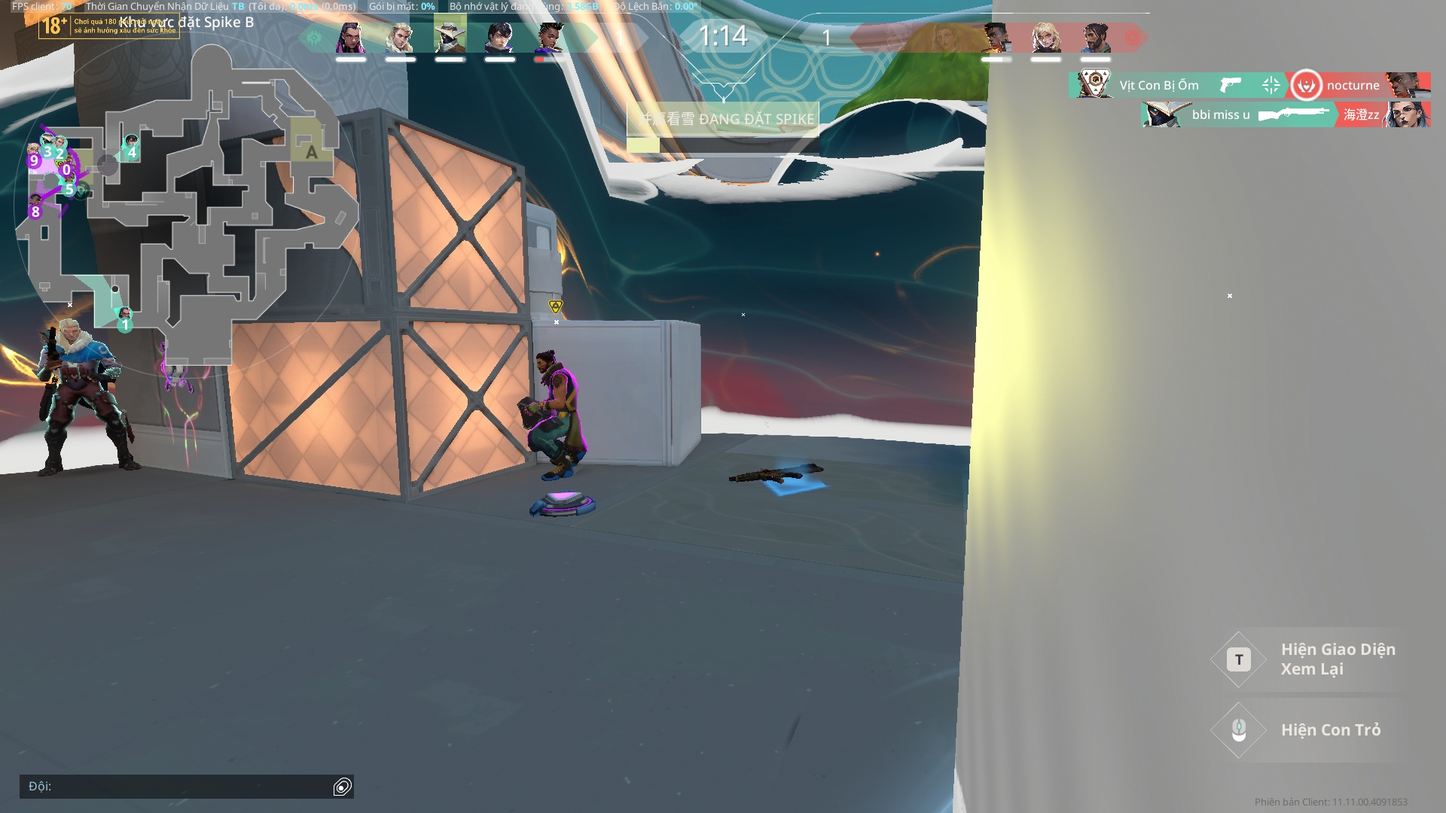body: (538, 367, 579, 412)
head: (532, 349, 557, 372)
